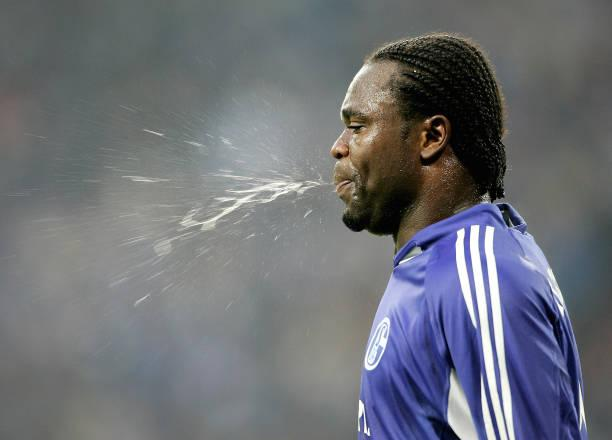Spitting: (187, 0, 518, 263)
